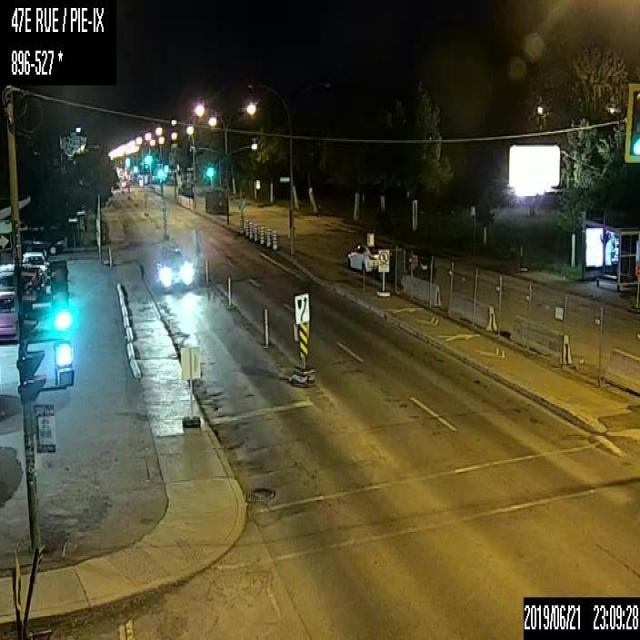construction: (226, 275, 232, 309), (263, 307, 268, 345), (258, 223, 264, 243), (252, 222, 258, 242), (244, 218, 250, 237), (204, 257, 208, 285), (248, 220, 253, 240), (265, 226, 270, 246), (272, 230, 277, 249), (189, 198, 192, 207), (186, 197, 189, 206), (184, 197, 186, 206)
vehicle: (378, 244, 434, 291), (154, 243, 194, 292), (347, 243, 388, 275), (22, 250, 50, 286), (22, 229, 63, 253), (0, 290, 16, 342), (24, 242, 48, 266), (24, 266, 44, 294), (0, 271, 14, 288)
